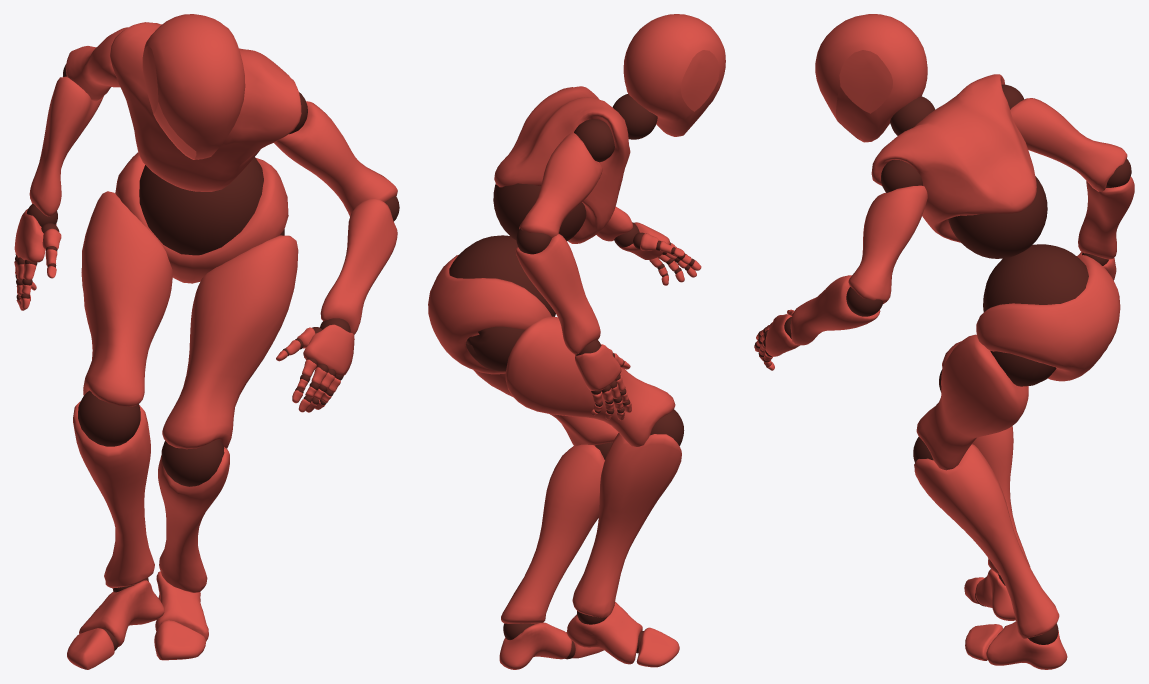
The picture shows the model from 3 angles, left to right: view 1: azimuth 30°, elevation 25°; view 2: azimuth 150°, elevation 25°; view 3: azimuth 270°, elevation 25°; orthographic projection. The views are drawn at different scales.
Parts seen in each view (by area): view 1: Beta_Surface, Beta_Joints; view 2: Beta_Surface, Beta_Joints; view 3: Beta_Surface, Beta_Joints.
Part boxes in pixels (x1=…): Beta_Surface: x1=14, y1=14, x2=397, y2=669; Beta_Joints: x1=15, y1=64, x2=399, y2=650; Beta_Surface: x1=428, y1=14, x2=725, y2=669; Beta_Joints: x1=449, y1=94, x2=694, y2=659; Beta_Surface: x1=754, y1=14, x2=1134, y2=669; Beta_Joints: x1=755, y1=84, x2=1131, y2=644.
Bounding box in the file's own units: 0.5776 × 1.47 × 0.822.
